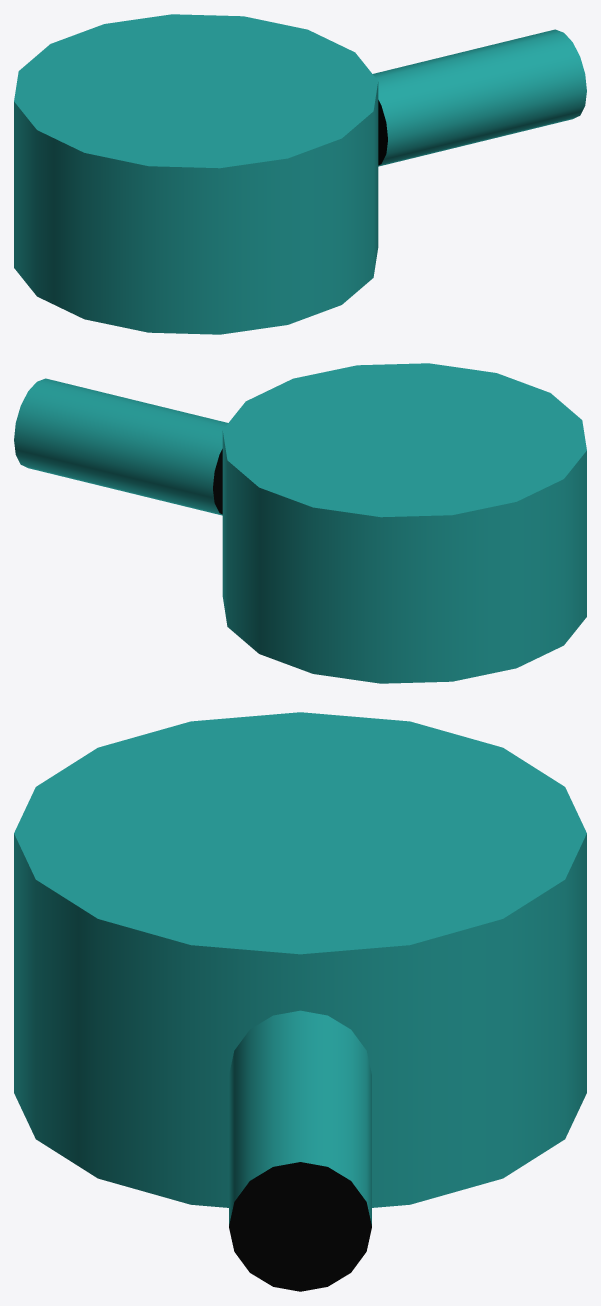
The model's file is SM_TankTurret.fbx.
The picture shows the model from 3 angles, top to bottom: view 1: azimuth 30°, elevation 25°; view 2: azimuth 150°, elevation 25°; view 3: azimuth 270°, elevation 25°; orthographic projection. The views are drawn at different scales.
Visible parts, largest first — view 1: pt_turret; view 2: pt_turret; view 3: pt_turret.
Boxes of the visible parts, box(x1,y1,x2,y2) form: pt_turret: box(14, 14, 586, 334); pt_turret: box(14, 363, 586, 683); pt_turret: box(14, 712, 586, 1291).
Size of the model in its own units: 128 by 212 by 64.
